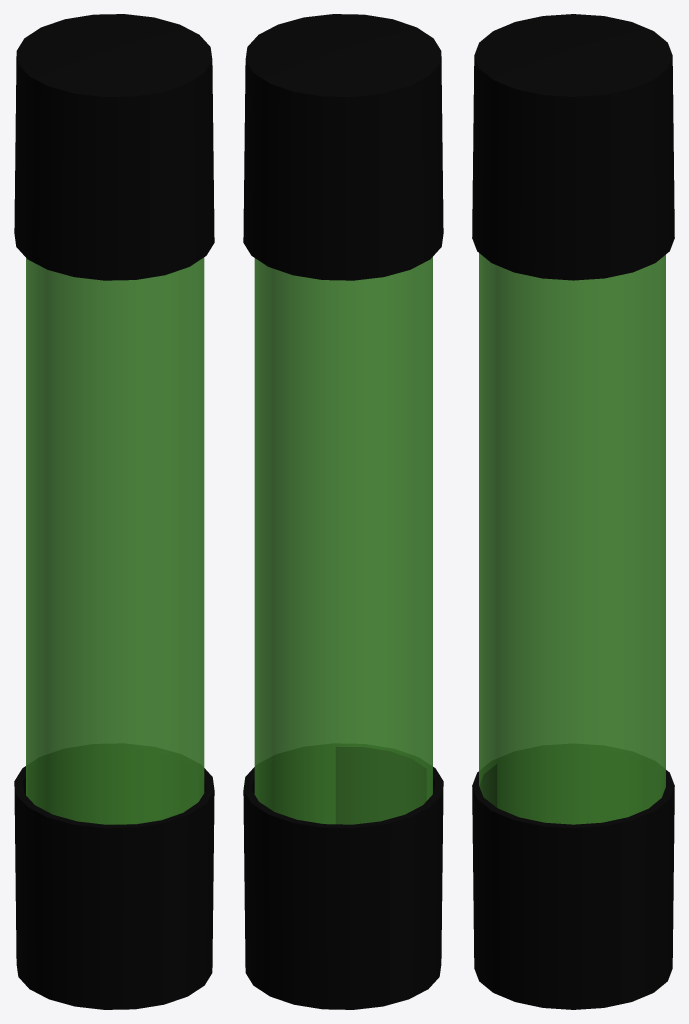
The model's file is Fuse.fbx.
3 views of the same model, side by side, from view 1: azimuth 30°, elevation 25°; view 2: azimuth 150°, elevation 25°; view 3: azimuth 270°, elevation 25° (orthographic).
Visible parts, largest first — view 1: pCylinder4; view 2: pCylinder4; view 3: pCylinder4.
Part boxes in pixels (left/top/right/bottom): pCylinder4: left=14, top=14, right=214, bottom=1009; pCylinder4: left=243, top=14, right=443, bottom=1009; pCylinder4: left=472, top=14, right=674, bottom=1009.
Bounding box in the file's own units: 0.7074 × 3.58 × 0.7145.
